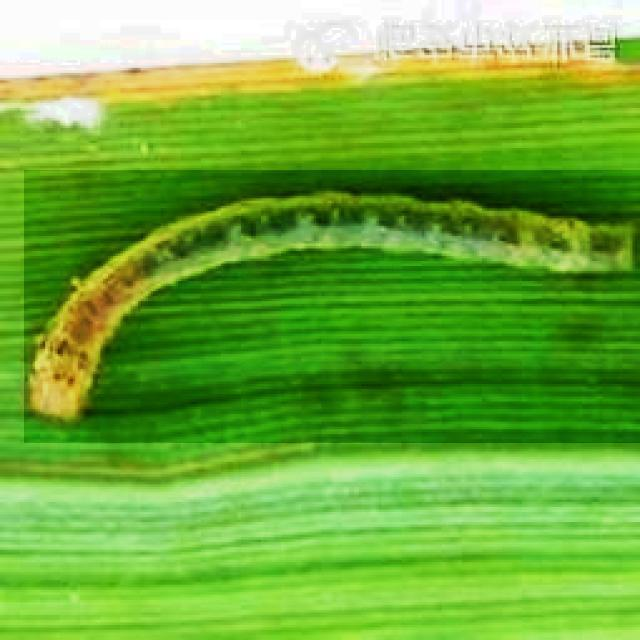leaf-folder: (24, 170, 640, 443)
